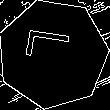L_E: (25, 35, 81, 73)
